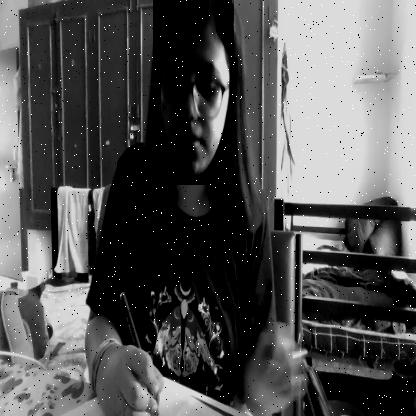Normal: (153, 0, 234, 185)
